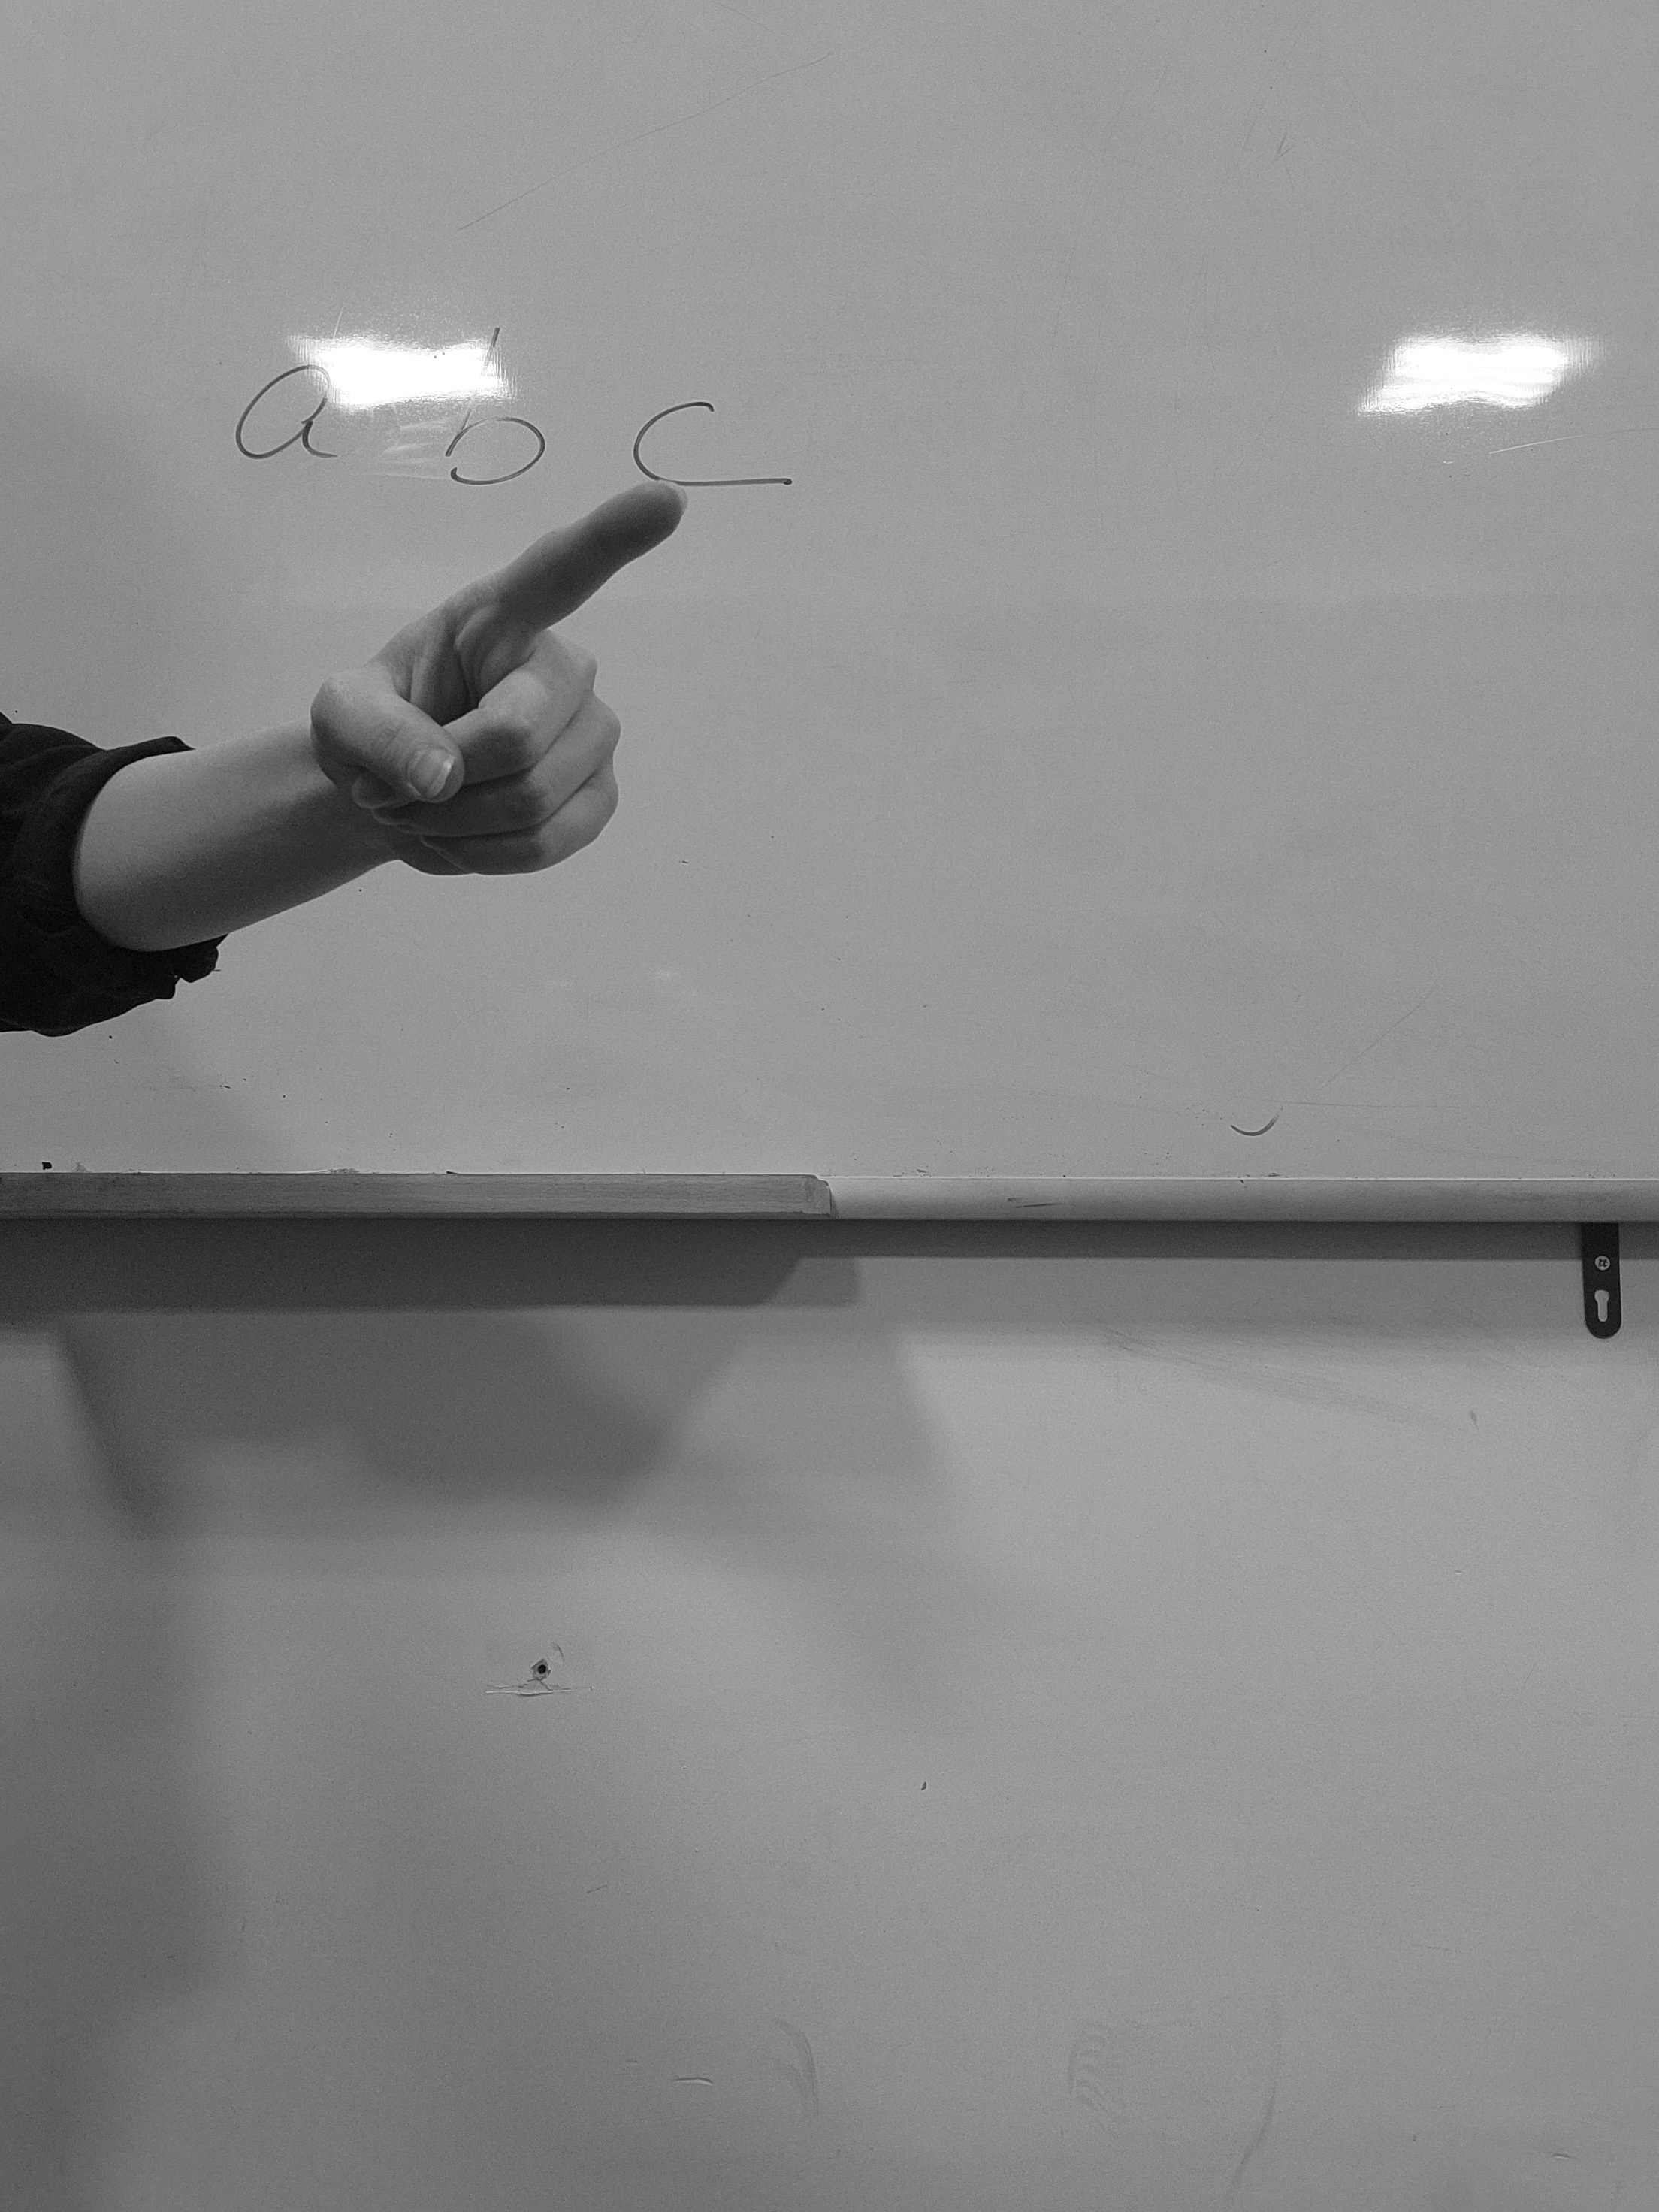pointing_gesture: (305, 481, 701, 883)
